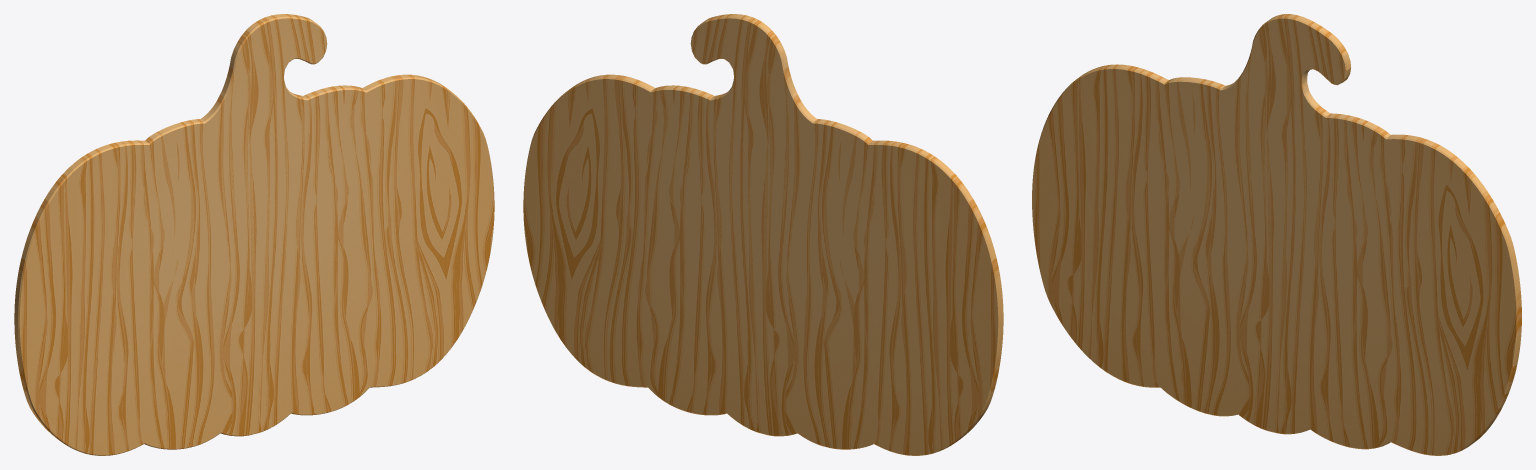
The model's file is Board_Pumpkin.fbx.
3 renders of one model, left to right at view 1: azimuth 30°, elevation 25°; view 2: azimuth 150°, elevation 25°; view 3: azimuth 330°, elevation 25°, orthographic. The views are drawn at different scales.
Visible parts, largest first — view 1: Board_Pumpkin; view 2: Board_Pumpkin; view 3: Board_Pumpkin.
Part boxes in pixels (bbox=[...]): Board_Pumpkin: bbox=[14, 14, 494, 455]; Board_Pumpkin: bbox=[523, 14, 1003, 455]; Board_Pumpkin: bbox=[1032, 14, 1521, 455].
Bounding box in the file's own units: 97.49 × 80.36 × 1.8.
